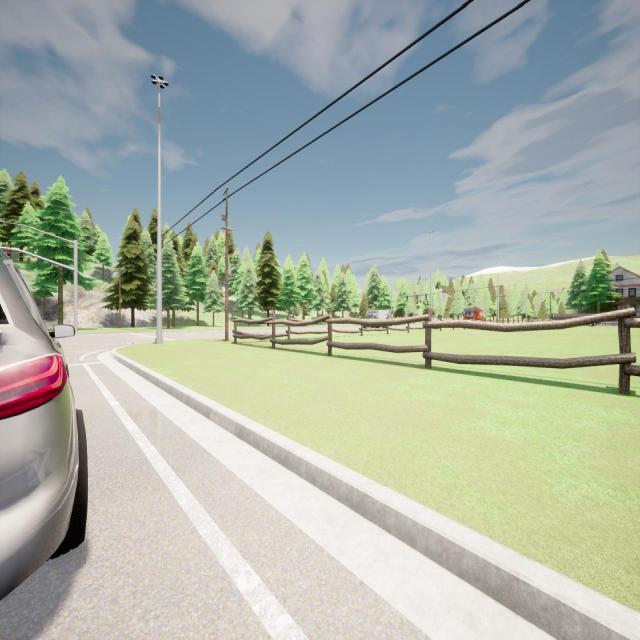Vehicle: (0, 251, 87, 598), (362, 309, 392, 327), (463, 307, 484, 320)
traffic_light: (406, 295, 408, 300), (416, 295, 418, 299), (425, 294, 427, 298)
